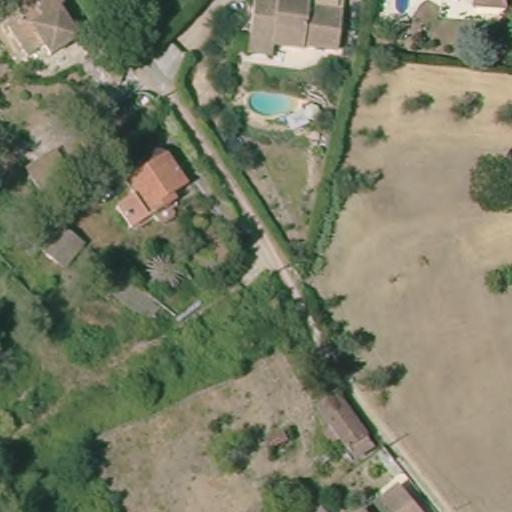pool: (243, 82, 307, 121), (390, 0, 412, 18)
